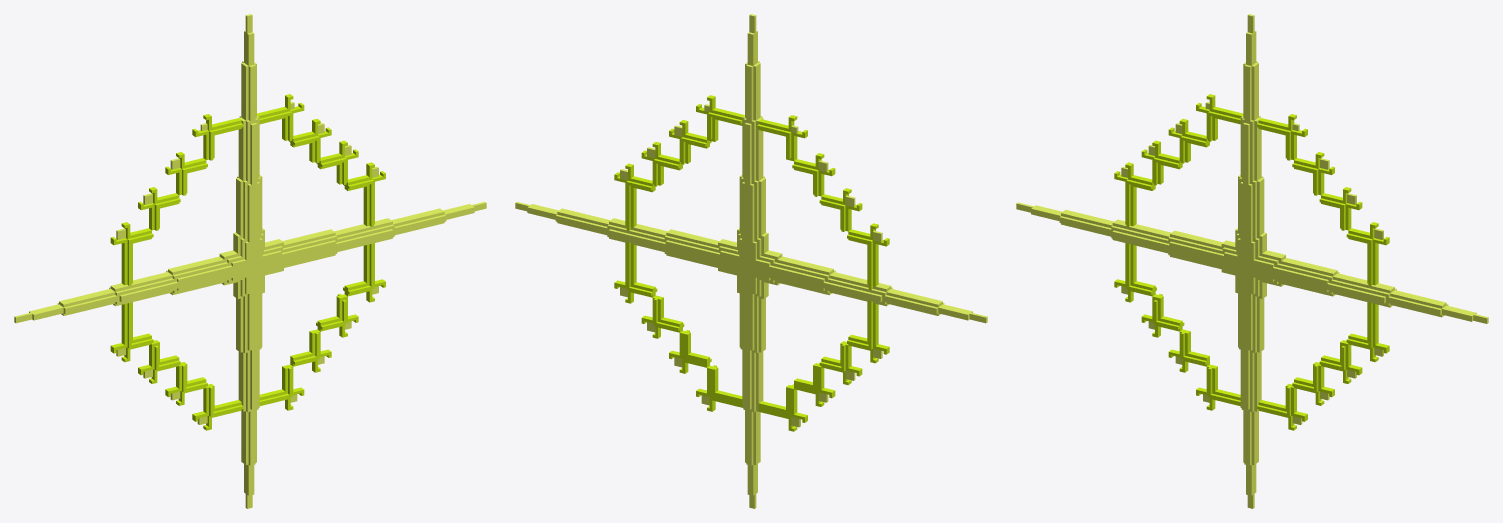
The model's file is Anubis.obj.
3 renders of one model, left to right at view 1: azimuth 30°, elevation 25°; view 2: azimuth 150°, elevation 25°; view 3: azimuth 330°, elevation 25°, orthographic.
Bounding box in the file's own units: 17.3 × 17.3 × 0.7.
Materials: 1 (1 with a texture image).
